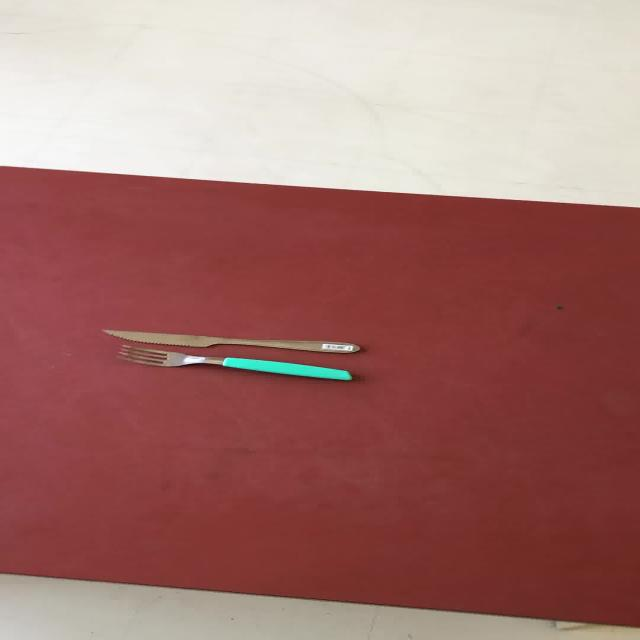fork: (114, 344, 352, 381)
knife fork: (99, 328, 361, 354)
